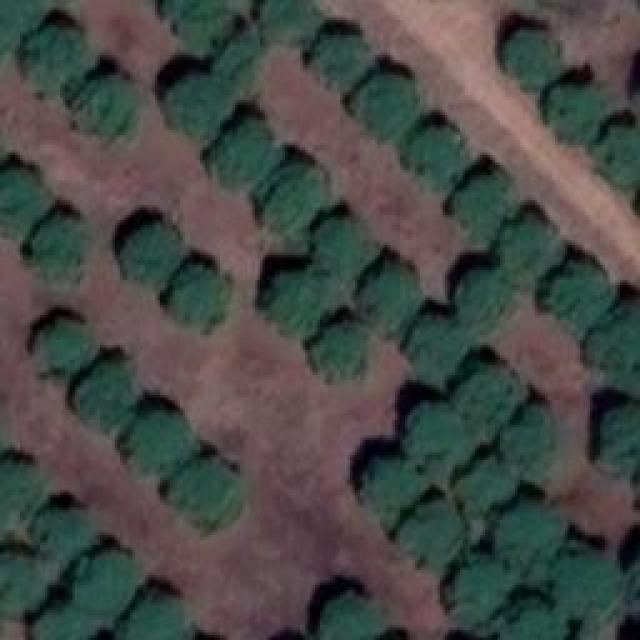Tree: (490, 503, 558, 576), (168, 75, 233, 143), (17, 30, 85, 95), (258, 162, 323, 230), (117, 223, 185, 286), (587, 300, 640, 380), (68, 75, 133, 140), (358, 265, 423, 330), (545, 258, 605, 328), (448, 555, 508, 625), (70, 550, 133, 613), (265, 270, 328, 333), (555, 553, 618, 616), (75, 362, 133, 430), (405, 315, 463, 383), (360, 458, 420, 523), (405, 403, 465, 468), (35, 213, 90, 283), (178, 458, 241, 518), (313, 323, 373, 386), (543, 83, 603, 146), (212, 120, 270, 183), (457, 365, 515, 428), (450, 270, 510, 330), (493, 220, 553, 280), (128, 410, 183, 473), (170, 265, 223, 328), (313, 215, 366, 278), (360, 78, 413, 141), (455, 172, 510, 230), (163, 0, 228, 48), (458, 455, 511, 513), (505, 30, 558, 88), (497, 595, 565, 640), (507, 405, 555, 468), (38, 508, 93, 561), (313, 38, 366, 93), (408, 127, 458, 185), (0, 550, 45, 613), (405, 503, 455, 558), (119, 597, 182, 640), (0, 170, 45, 230), (40, 318, 93, 368), (322, 595, 380, 640), (595, 127, 640, 185), (600, 403, 640, 468), (218, 35, 258, 95), (260, 0, 315, 42), (0, 460, 38, 520), (35, 605, 85, 640), (0, 0, 32, 35)
